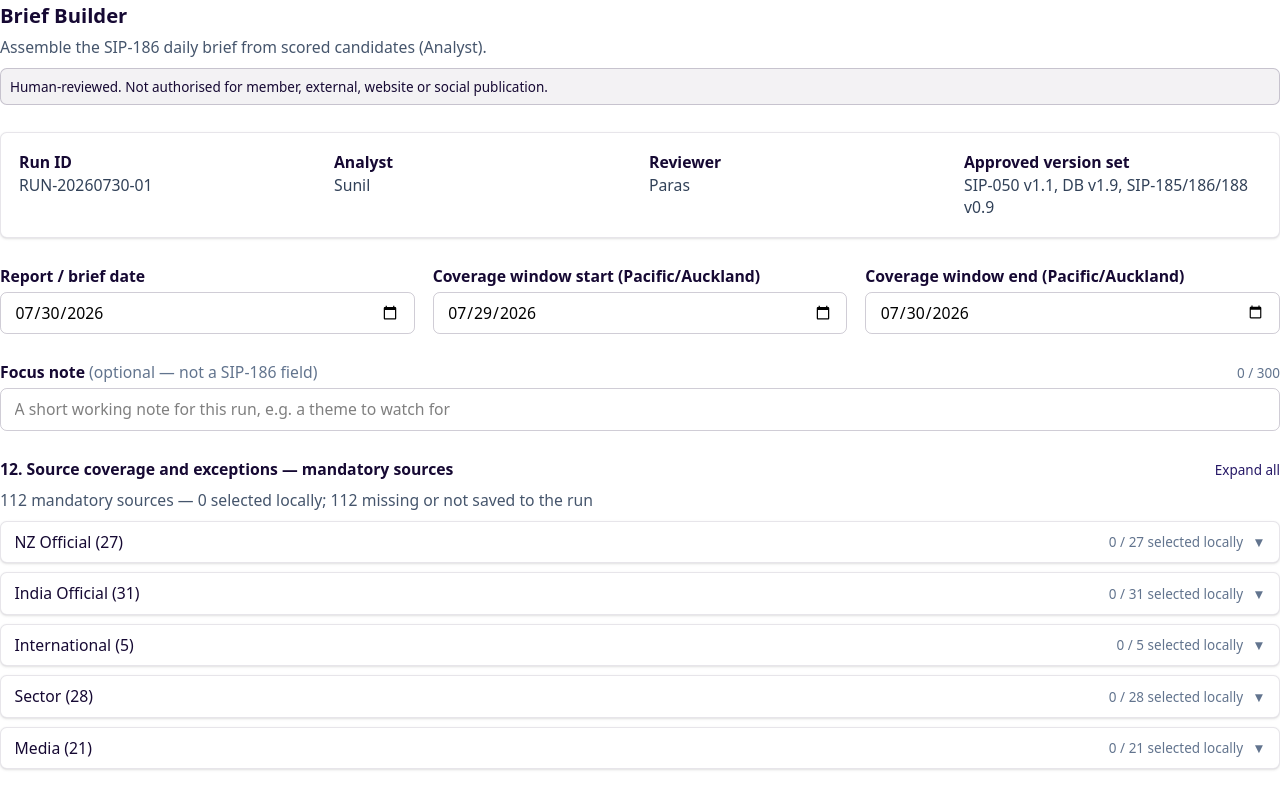
Test case: BriefBuilderScreen candidate source › saves one analyst-confirmed outcome and evidence through the run-scoped API
Click the button "NZ Official (27) 0 / 27 selected locally ▼".
click(53, 542)  # box [1,522,1279,562]
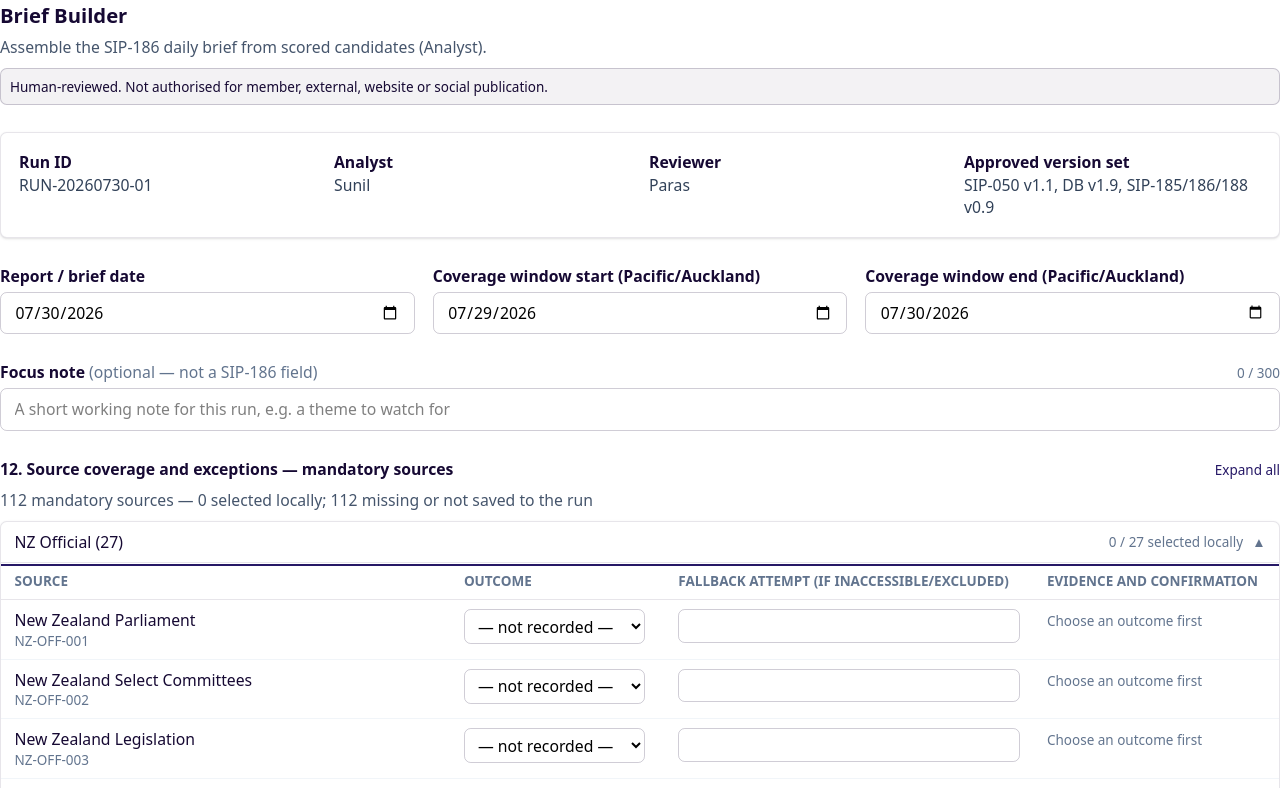
# The source lookup resolves NZ-OFF-001 to the API's src-1 foreign key.
Select "Included" in the dropdown in the row of "New Zealand Parliament" at (554, 627), box [464,610,645,644]
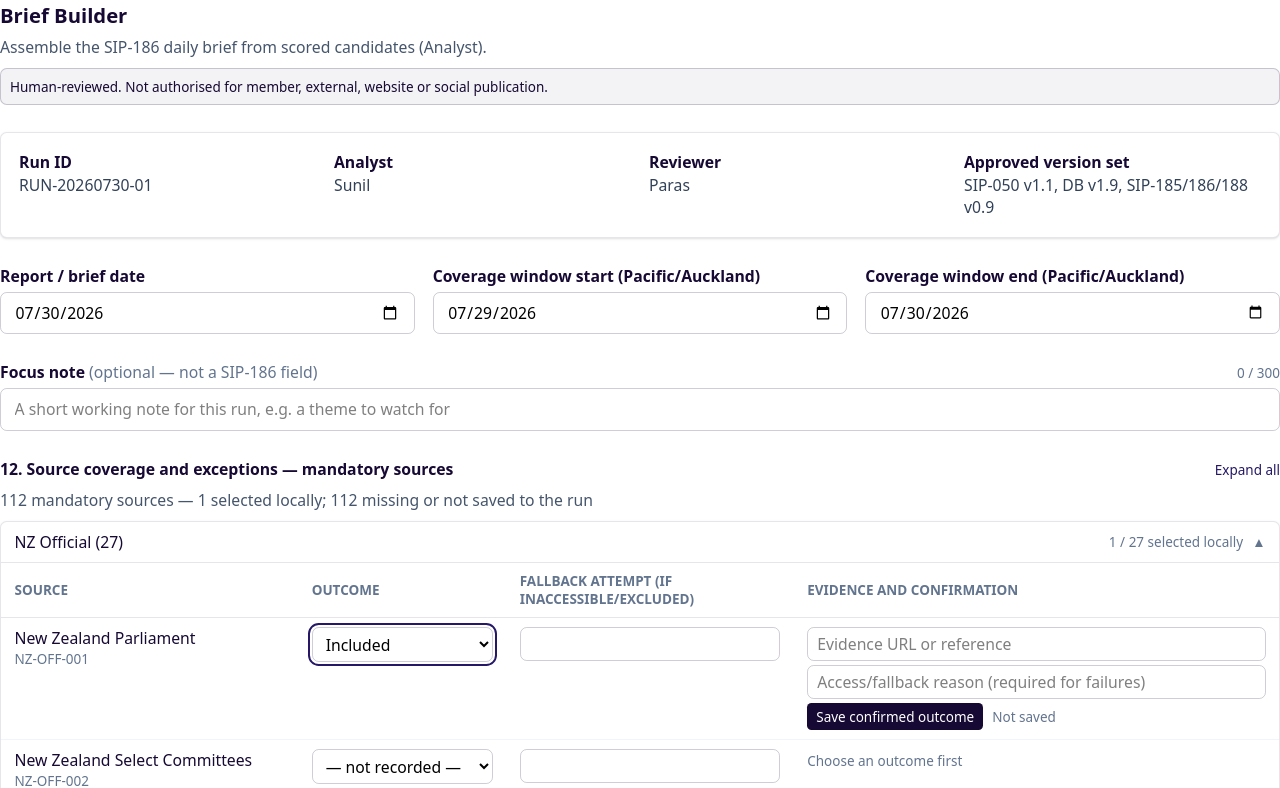
Type "internal://evidence/1" into the field with placeholder "Evidence URL or reference".
click(1036, 644); type("internal://evidence/1")  # box [807,628,1266,661]
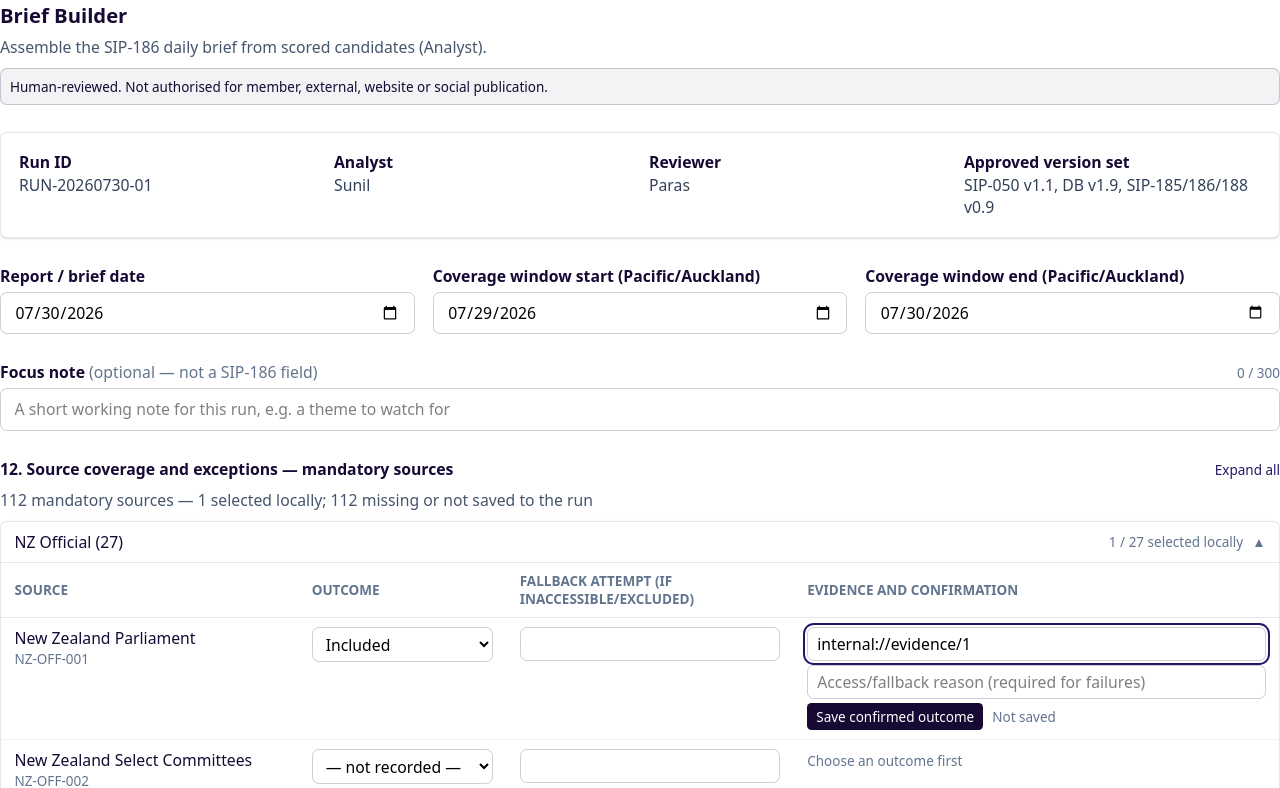
Result: the button "Save confirmed outcome" is enabled
Click the button "Save confirmed outcome".
click(895, 717)  # box [807,704,983,730]
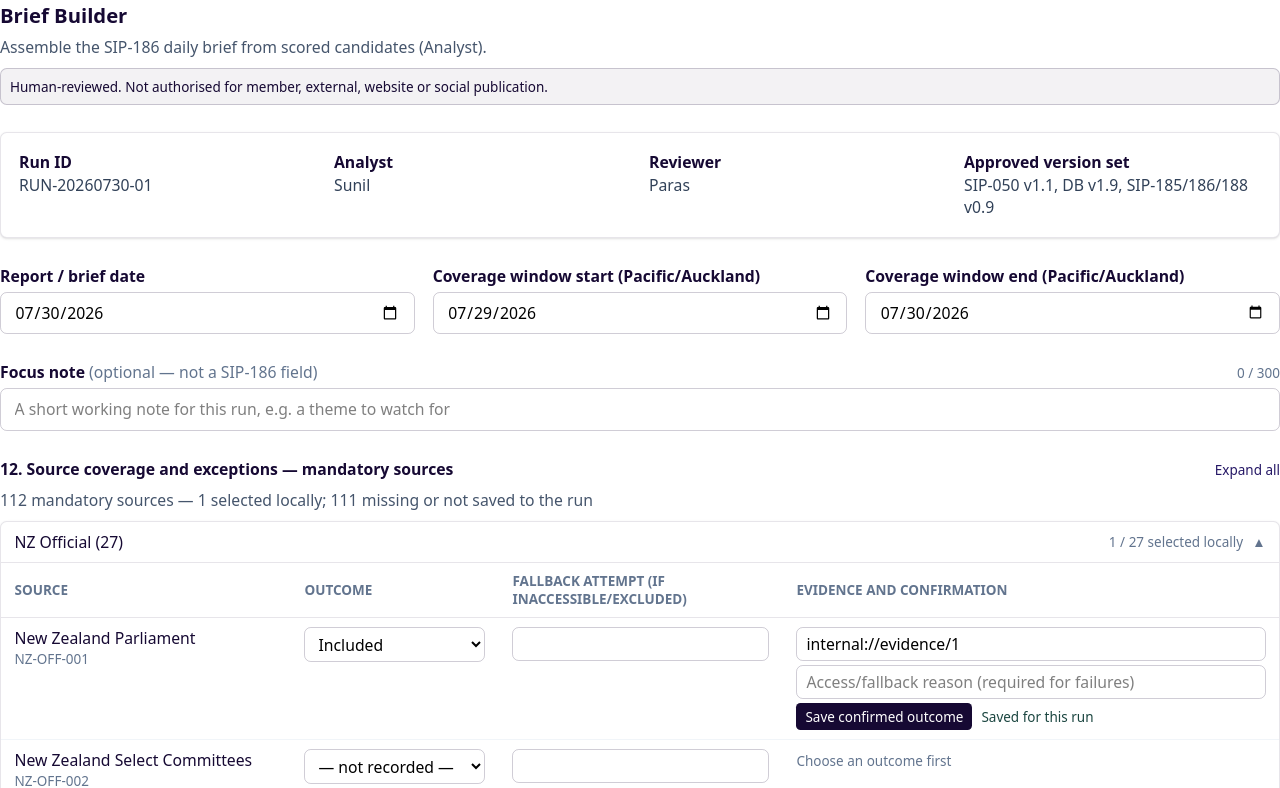
Result: the text "Saved for this run" is shown at [981,708,1094,726]
